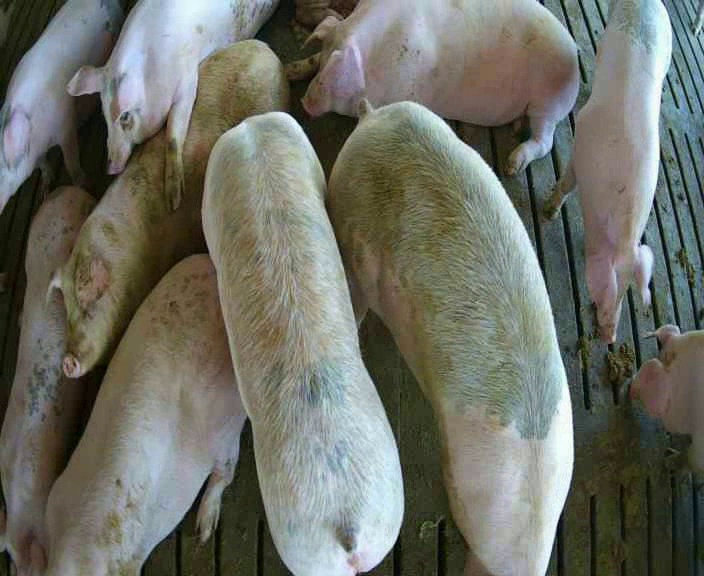pig: (328, 99, 573, 574), (203, 112, 403, 574), (46, 41, 288, 375), (49, 255, 245, 574), (282, 2, 578, 173), (68, 2, 276, 208), (546, 2, 671, 342), (0, 186, 93, 574), (0, 3, 123, 212), (632, 324, 703, 469)
